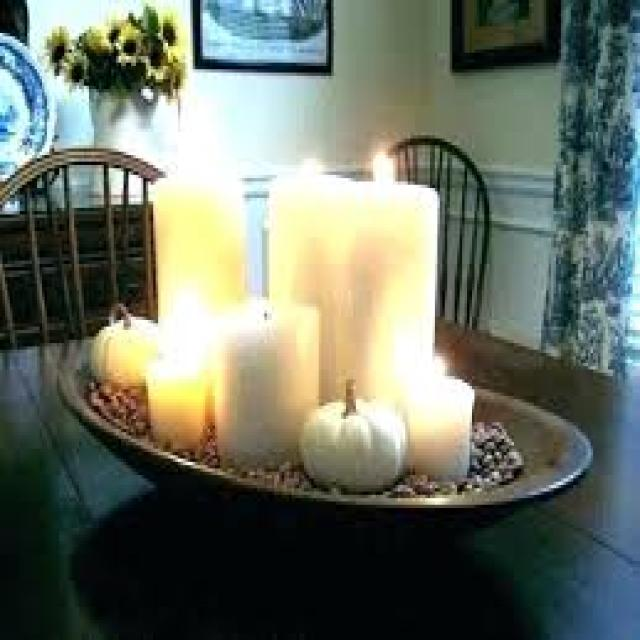fire: (366, 142, 405, 191)
